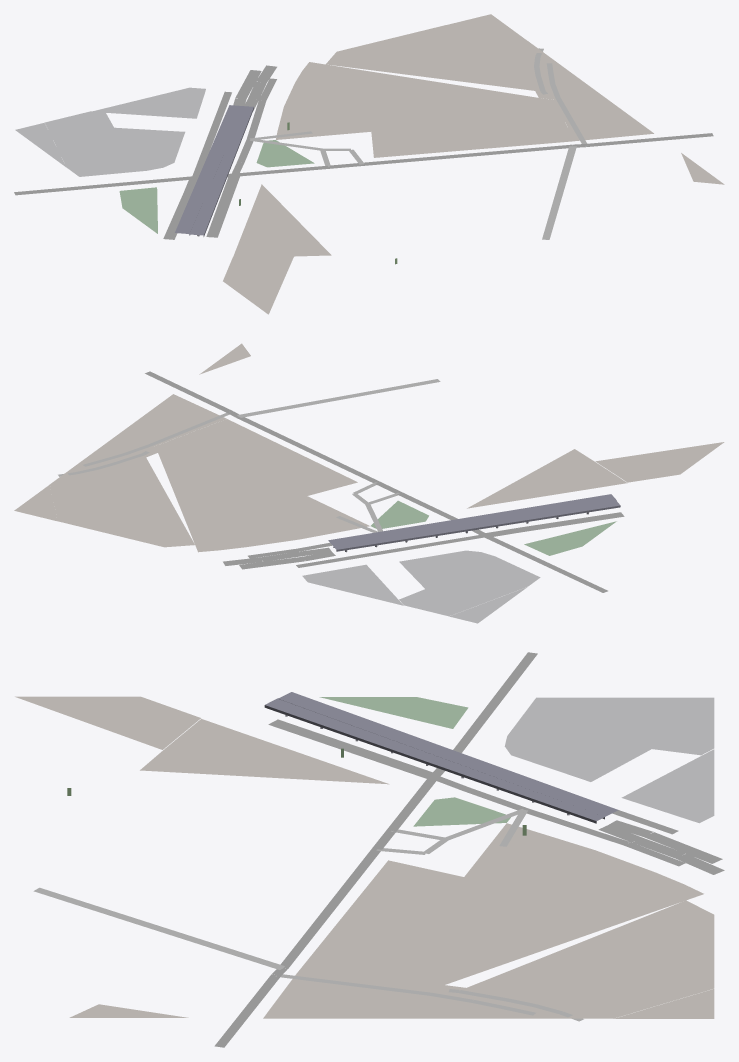
3 views of the same model, one above another, from view 1: azimuth 30°, elevation 25°; view 2: azimuth 150°, elevation 25°; view 3: azimuth 270°, elevation 25° (orthographic). The views are drawn at different scales.
Bounding box in the file's own units: 616 × 8.33 × 468.
